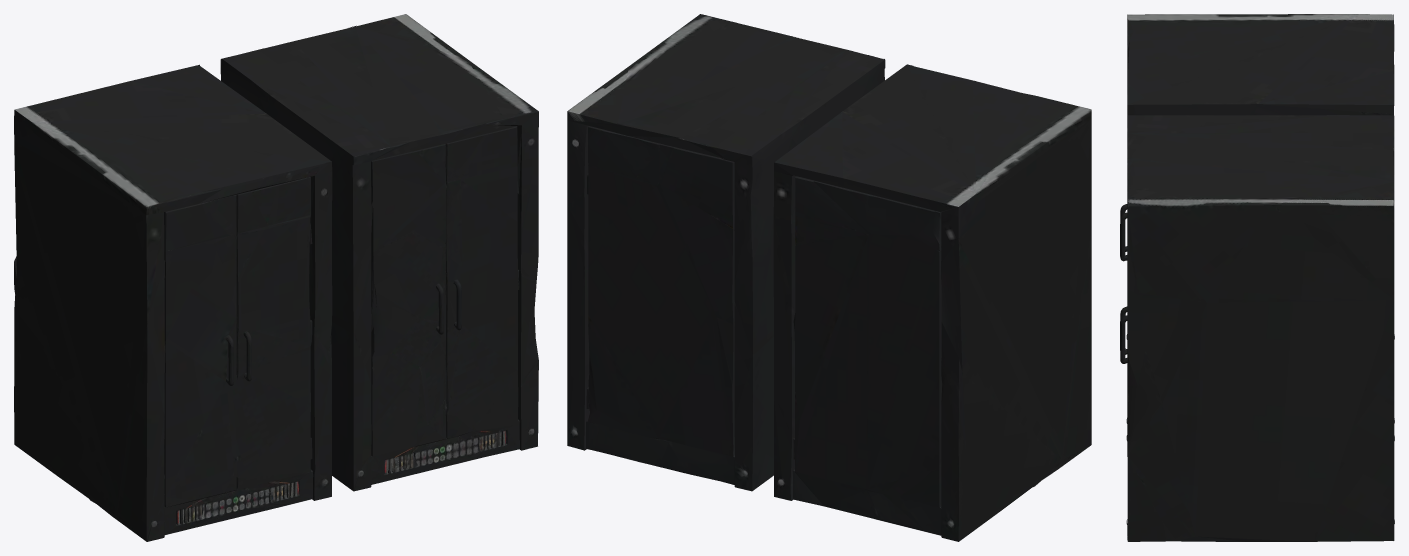
Rendered from segRack.glb.
3 renders of one model, left to right at view 1: azimuth 30°, elevation 25°; view 2: azimuth 150°, elevation 25°; view 3: azimuth 270°, elevation 25°, orthographic.
Size of the model in its own units: 1.9 by 1.57 by 1.15.
1 material, 1 textured.
